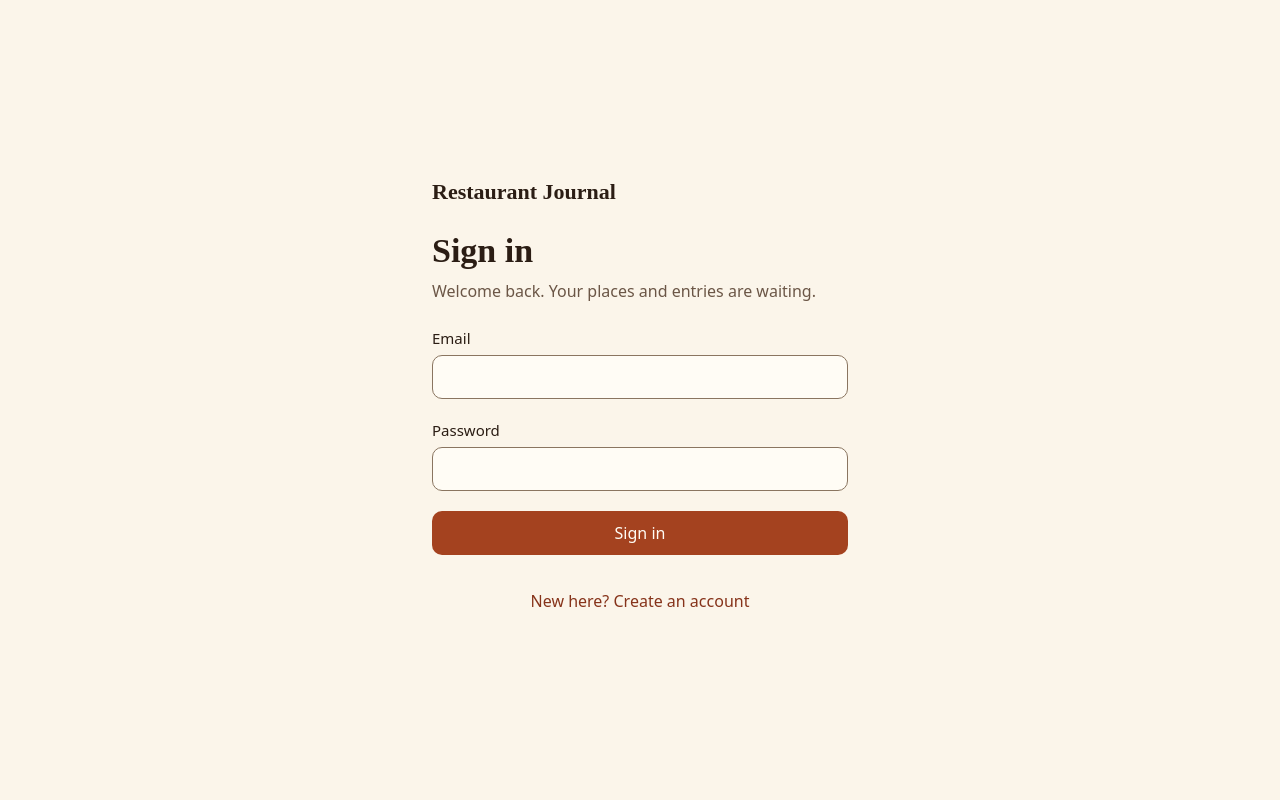
Test: signed out › sends you to the sign-in page, then back to where you were headed
The width and height of the screenshot is (1280, 800).
Expected: the heading "Sign in" is shown, [432, 232, 533, 269]
Expected: the navigation bar "Main" is not shown
Type "george@example.com" into the field labelled "Email" at (640, 377), box [432, 355, 848, 399]
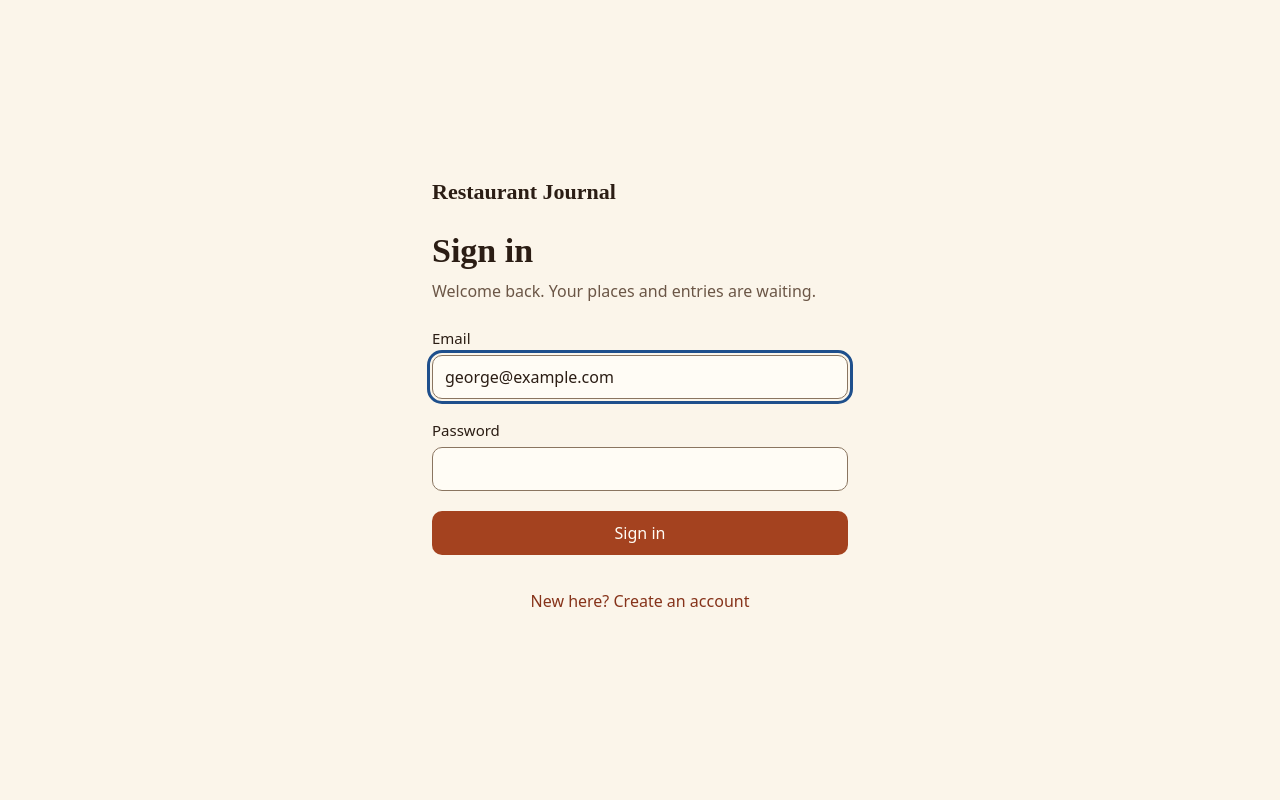
Type "correct-horse" into the password field labelled "Password" at (640, 469), box [432, 447, 848, 491]
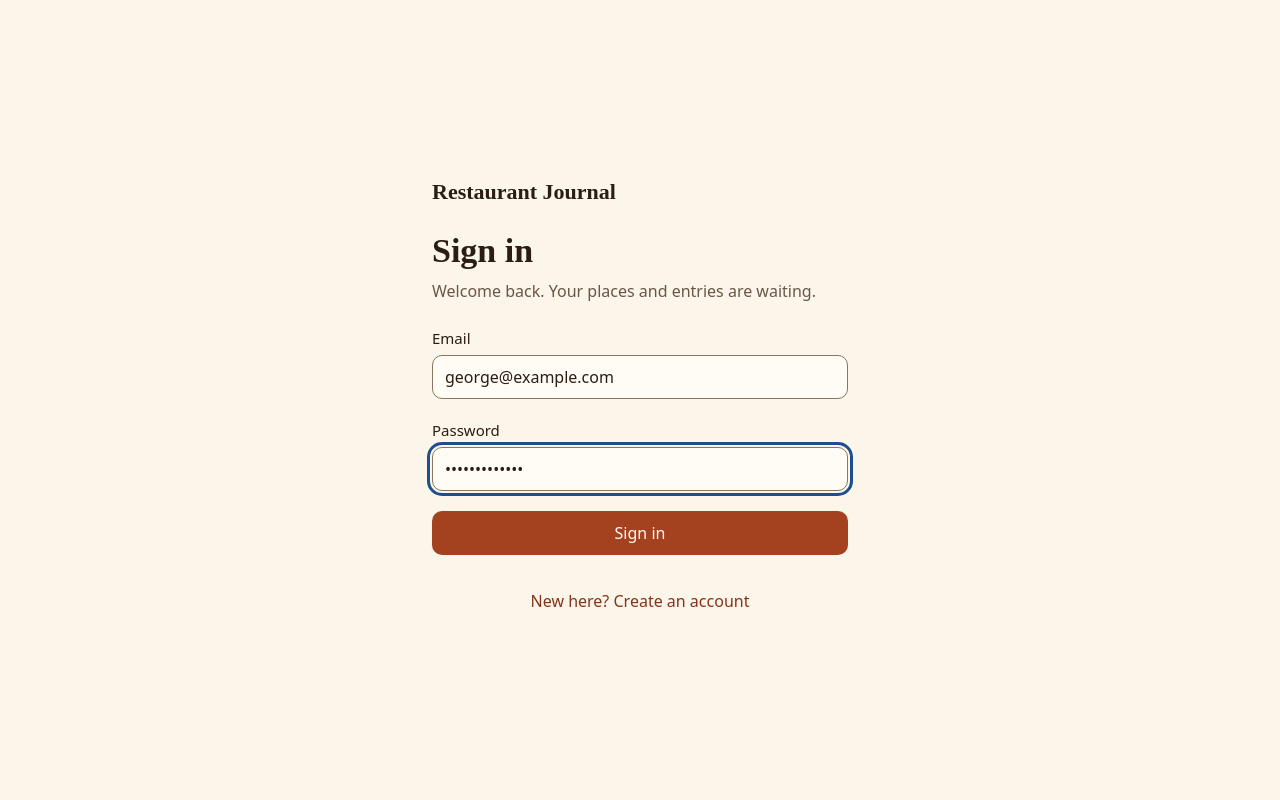
Click the button "Sign in" at (640, 533), box [432, 511, 848, 555]
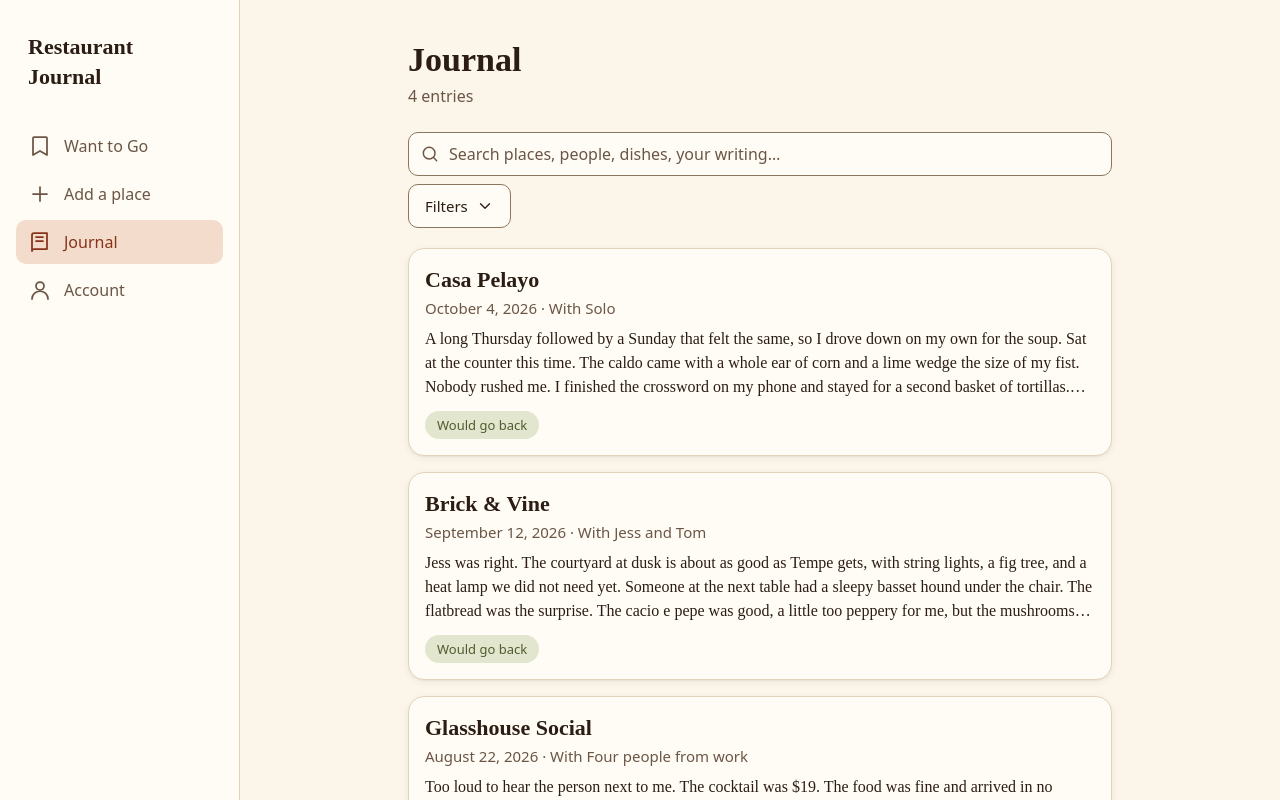
Result: the heading "Journal" is shown at [408, 40, 521, 80]
